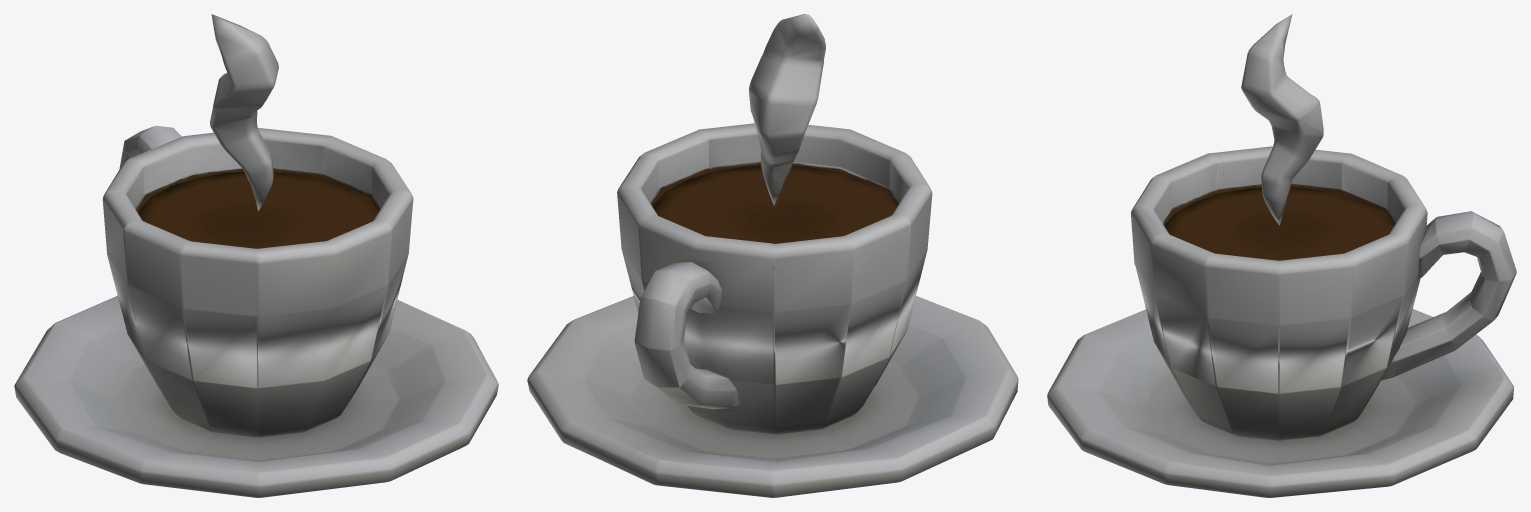
Rendered from cup.glb.
The picture shows the model from 3 angles, left to right: view 1: azimuth 30°, elevation 25°; view 2: azimuth 150°, elevation 25°; view 3: azimuth 270°, elevation 25°; orthographic projection. The views are drawn at different scales.
Visible parts, largest first — view 1: tripo_node_2a00940a-52fb-4cc0-bdb7-b875dbc7e486; view 2: tripo_node_2a00940a-52fb-4cc0-bdb7-b875dbc7e486; view 3: tripo_node_2a00940a-52fb-4cc0-bdb7-b875dbc7e486.
Boxes of the visible parts, left/top/right/bottom form: tripo_node_2a00940a-52fb-4cc0-bdb7-b875dbc7e486: left=14, top=14, right=498, bottom=497; tripo_node_2a00940a-52fb-4cc0-bdb7-b875dbc7e486: left=527, top=14, right=1018, bottom=497; tripo_node_2a00940a-52fb-4cc0-bdb7-b875dbc7e486: left=1047, top=14, right=1516, bottom=497.
Bounding box in the file's own units: 0.9824 × 0.9551 × 0.998.
Materials: 1 (1 with a texture image).
